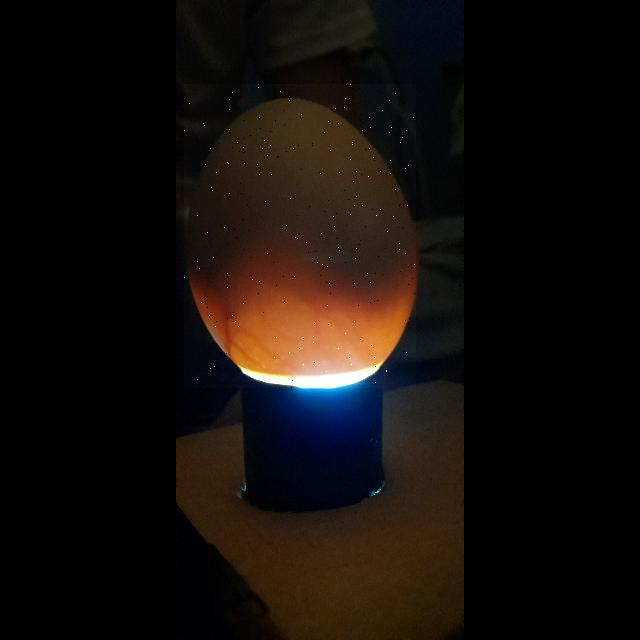Fertile: (184, 84, 416, 388)
